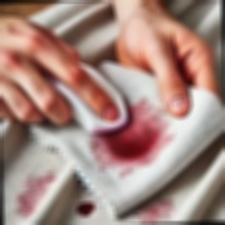wine: (87, 103, 165, 160), (22, 173, 56, 215), (132, 193, 174, 224), (74, 201, 95, 218)
